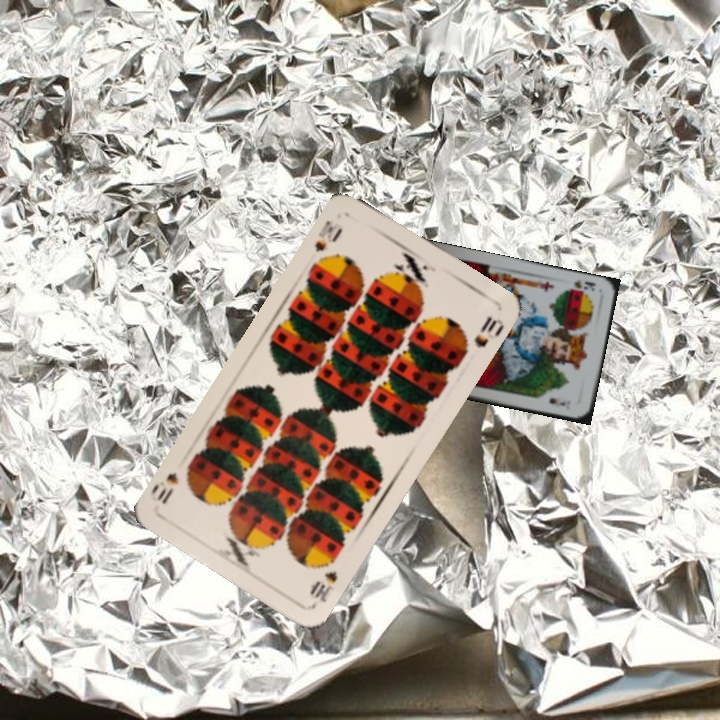S10: (310, 216, 346, 256), (305, 566, 340, 605)
SK: (570, 275, 598, 293)
